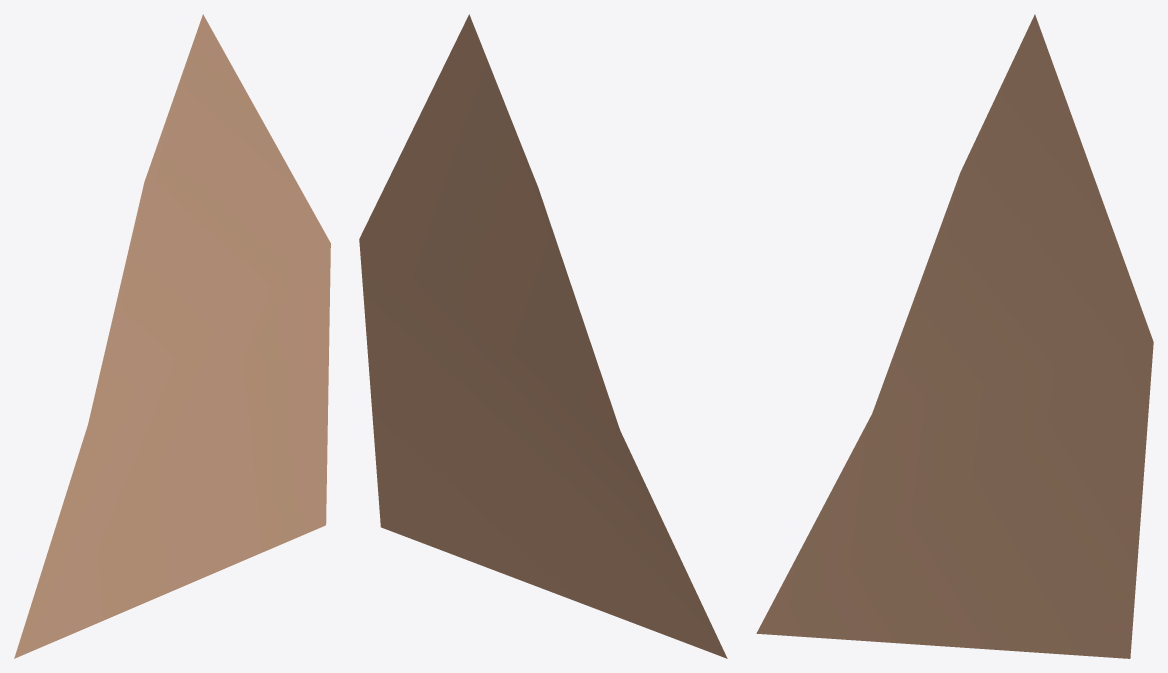
File: triangle-of-auscultation-r.glb
The picture shows the model from 3 angles, left to right: view 1: azimuth 30°, elevation 25°; view 2: azimuth 150°, elevation 25°; view 3: azimuth 330°, elevation 25°; orthographic projection. The views are drawn at different scales.
Visible parts, largest first — view 1: Triangle of auscultation.r; view 2: Triangle of auscultation.r; view 3: Triangle of auscultation.r.
Boxes of the visible parts, bbox=[...] form: Triangle of auscultation.r: bbox=[14, 14, 330, 658]; Triangle of auscultation.r: bbox=[359, 14, 727, 658]; Triangle of auscultation.r: bbox=[756, 14, 1153, 658].
Size of the model in its own units: 0.0102 by 0.0168 by 0.00143.
